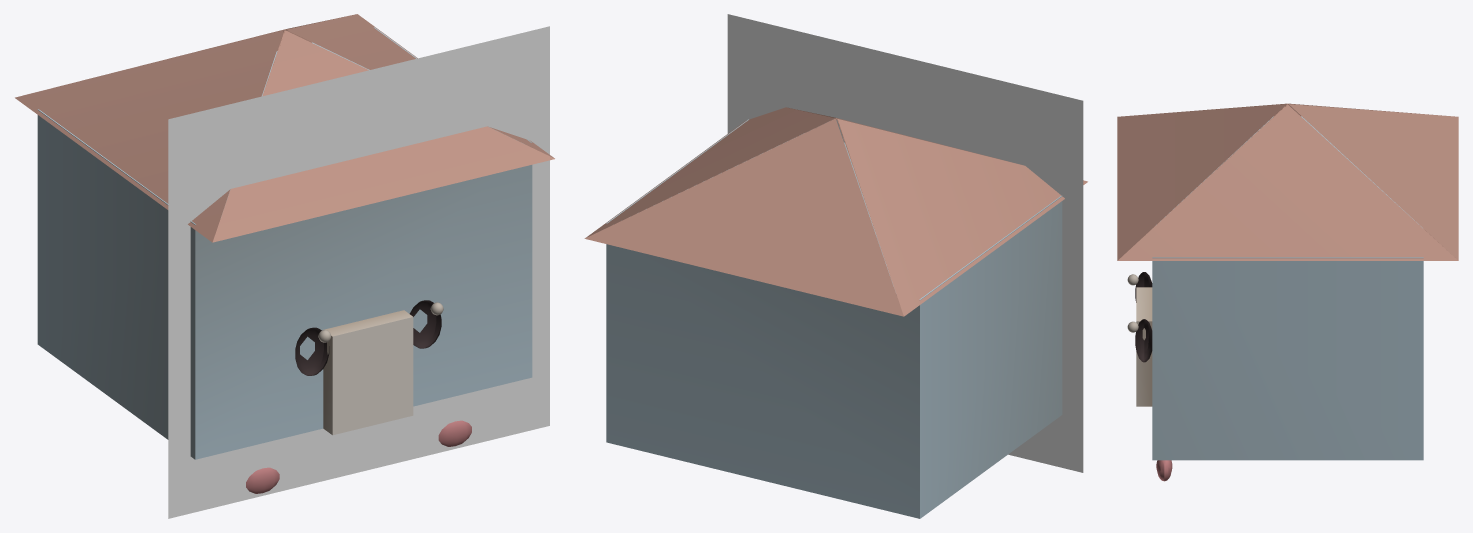
3 views of the same model, side by side, from view 1: azimuth 30°, elevation 25°; view 2: azimuth 150°, elevation 25°; view 3: azimuth 270°, elevation 25° (orthographic). The views are drawn at different scales.
Parts seen in each view (by area): view 1: pet_p33d2c495; view 2: pet_p33d2c495; view 3: pet_p33d2c495.
Part boxes in pixels (x1,y1,x2,y2): pet_p33d2c495: [15, 14, 554, 518]; pet_p33d2c495: [584, 14, 1087, 518]; pet_p33d2c495: [1117, 103, 1458, 481].
Bounding box in the file's own units: 0.476 × 0.476 × 0.4277.
